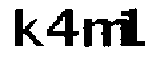1: (119, 7, 149, 53)
4: (46, 6, 80, 48)
k: (12, 4, 45, 48)
m: (81, 18, 128, 48)
